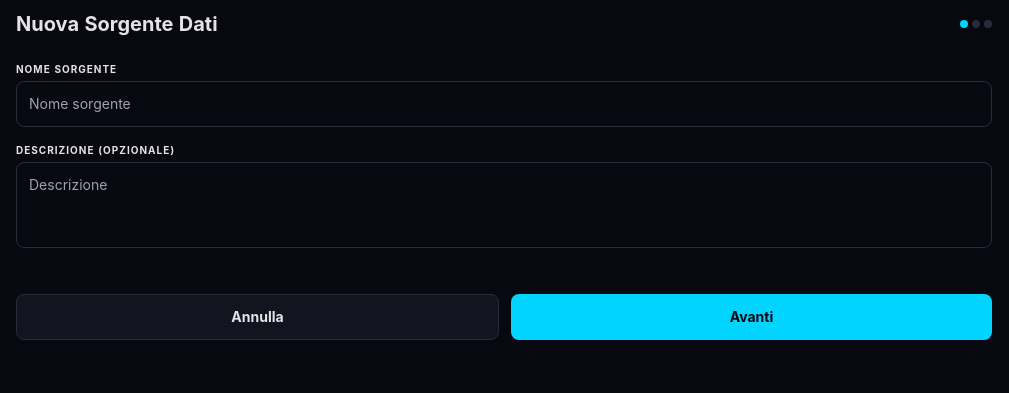
Test case: DataSourceFormSlideOver › selects API mode and shows URL input on step 3
This screenshot has width=1009, height=393.
In the field labelled "Nome Sorgente": (504, 104) [16,81,992,127], type "Test Source"
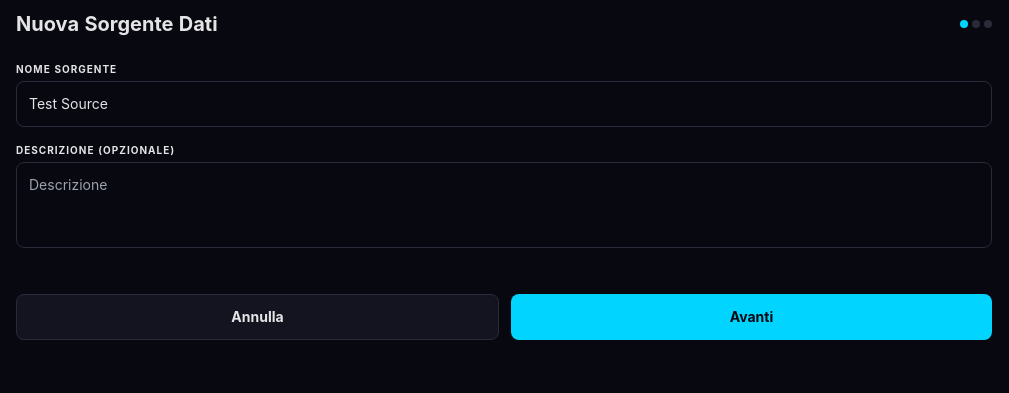
Click the button "Avanti": click(752, 317) [511,294,992,340]
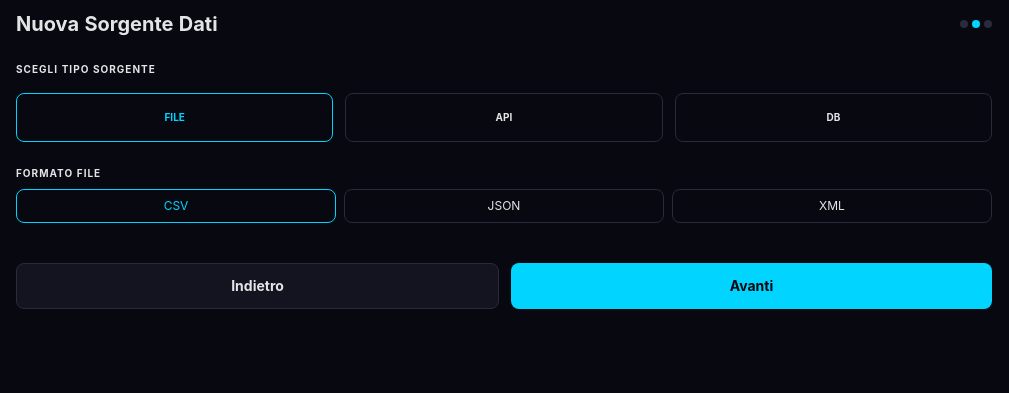
Click the button "API": click(504, 118) [345,93,663,142]
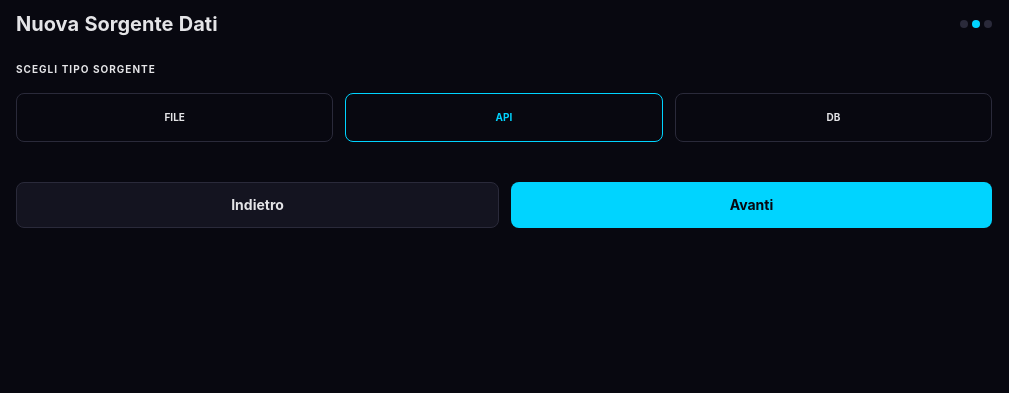
Click the button "Avanti": click(752, 205) [511,182,992,228]
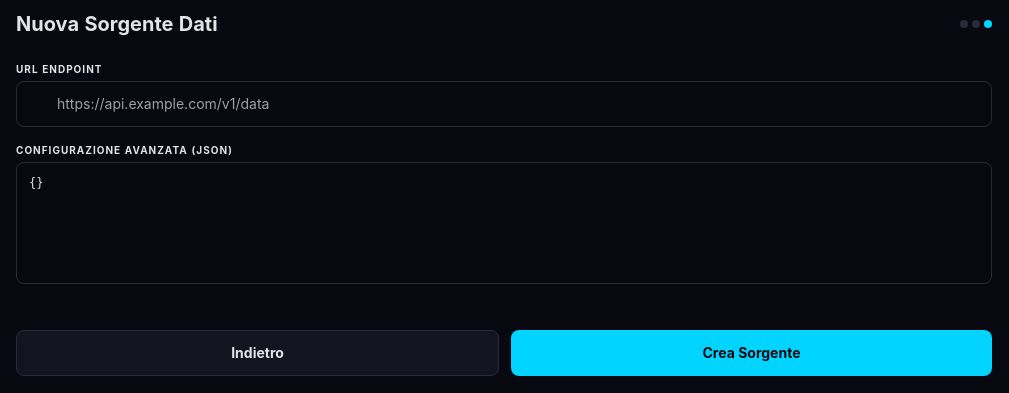
Check: the field labelled "URL Endpoint" is shown, box [16,81,992,127]
